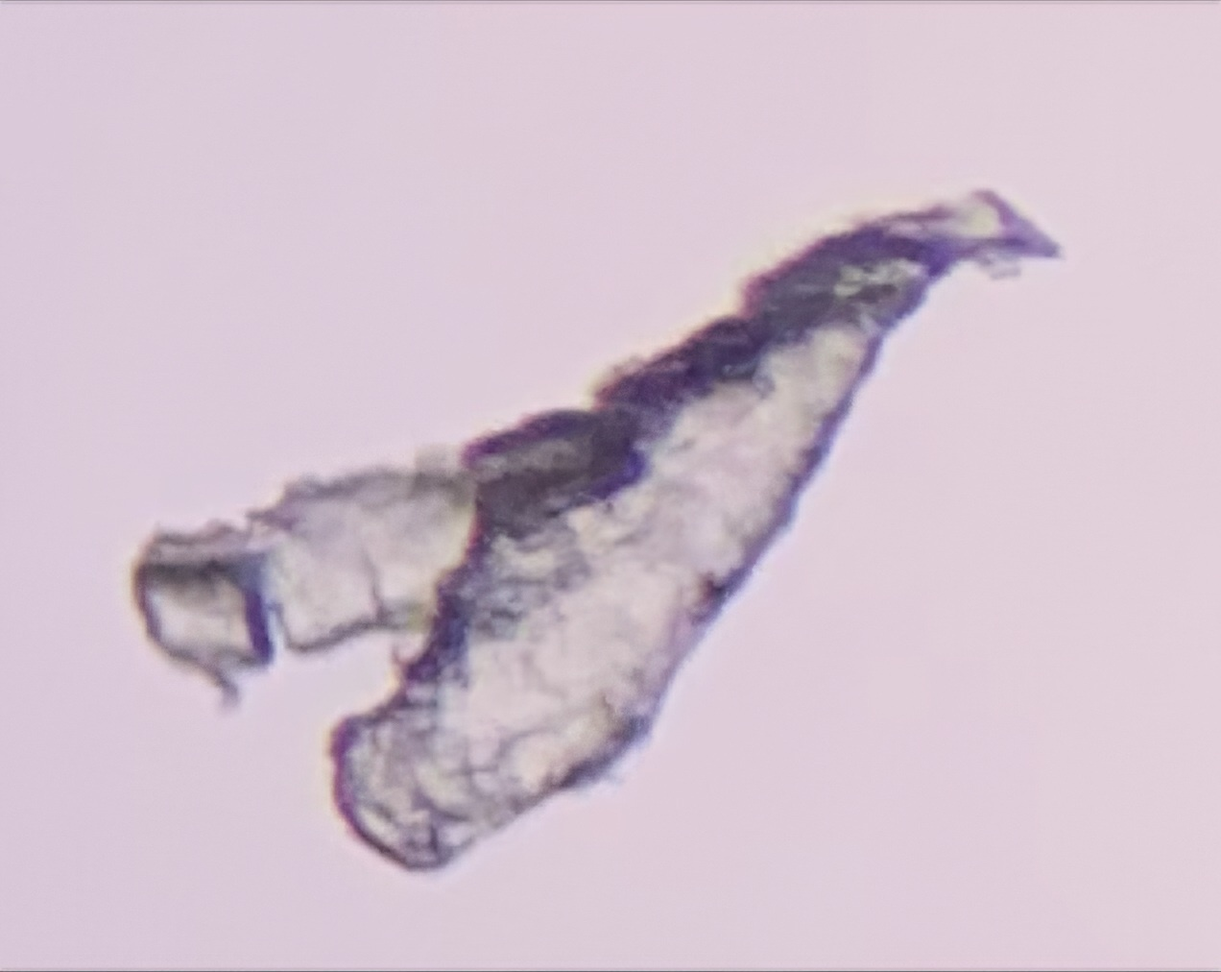microplastic: (128, 187, 1066, 875)
